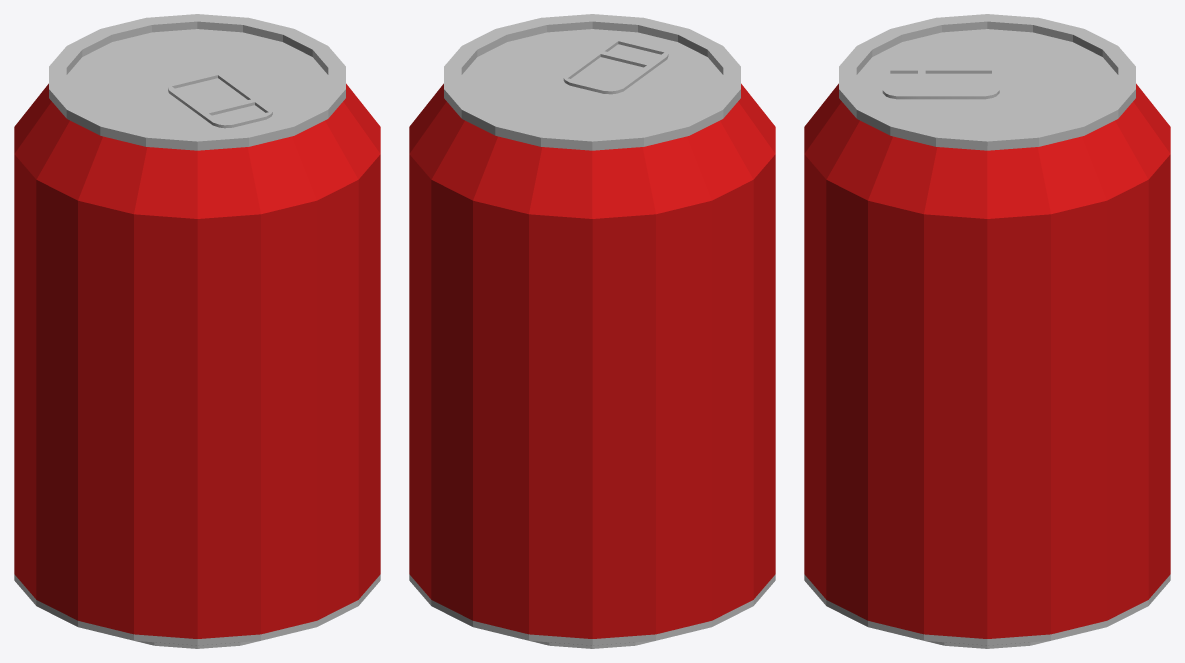
3 views of the same model, side by side, from view 1: azimuth 30°, elevation 25°; view 2: azimuth 150°, elevation 25°; view 3: azimuth 270°, elevation 25° (orthographic).
Visible parts, largest first — view 1: Cylinder001, Box001; view 2: Cylinder001, Box001; view 3: Cylinder001, Box001.
Boxes of the visible parts, x1,y1,x2,y2 form: Cylinder001: (14, 14, 380, 648); Box001: (168, 73, 272, 128); Cylinder001: (409, 14, 775, 648); Box001: (563, 39, 668, 94); Cylinder001: (804, 14, 1170, 648); Box001: (882, 67, 999, 99).
Bounding box in the file's own units: 223178 × 342935 × 219787.
